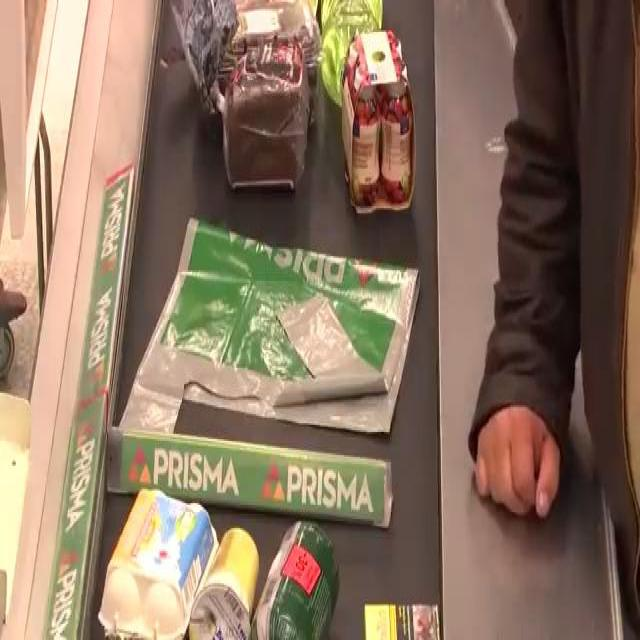utility-box: (140, 263, 434, 413)
